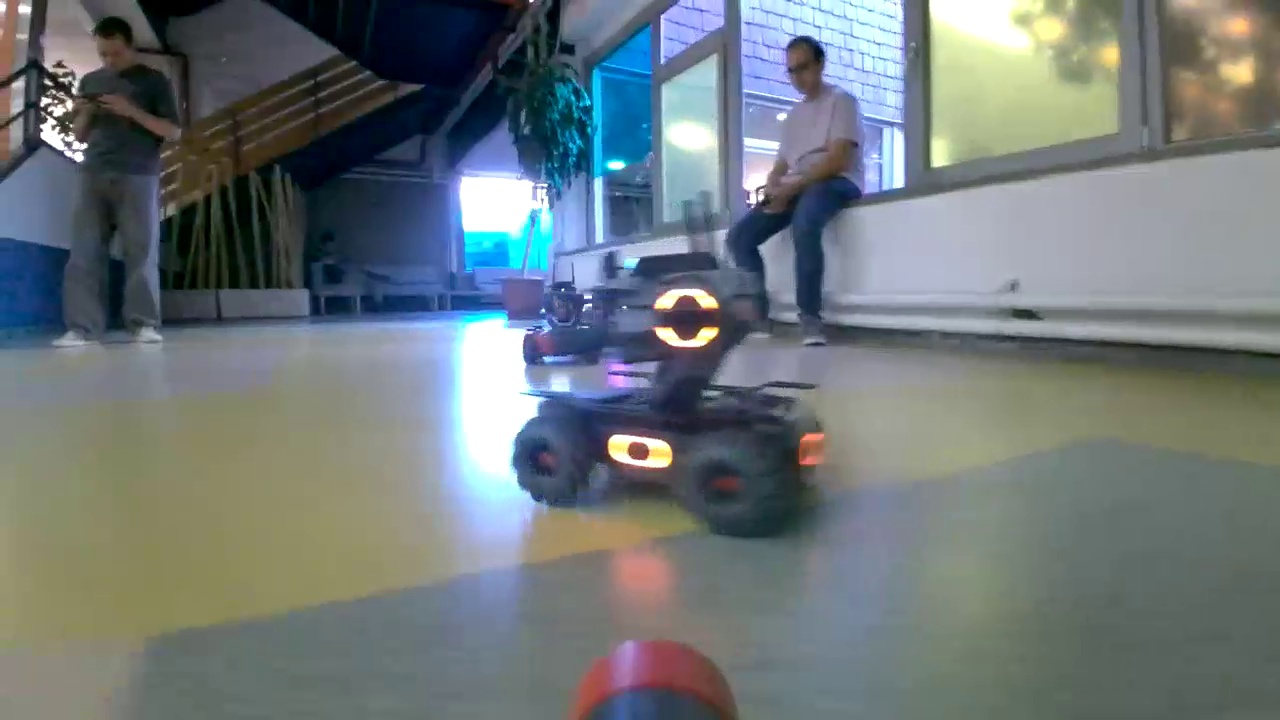robot: (518, 258, 838, 540), (517, 275, 602, 368)
